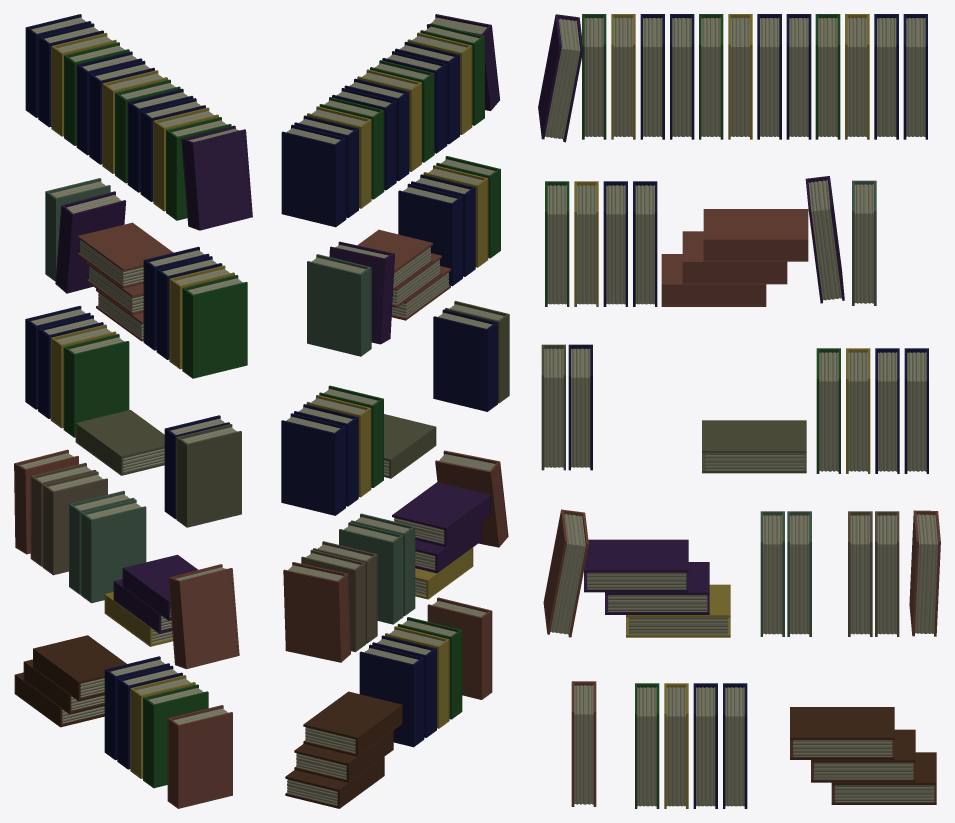
File: LibrosExtra (1).fbx
The picture shows the model from 3 angles, left to right: view 1: azimuth 30°, elevation 25°; view 2: azimuth 150°, elevation 25°; view 3: azimuth 270°, elevation 25°; orthographic projection. The views are drawn at different scales.
Parts seen in each view (by area): view 1: LibroBase.005, LibroBase.011, LibroBase.014, LibroBase.001, LibroBase.010, LibroBase.004, LibroBase.009, LibroBase.003, LibroBase.006, LibroBase, LibroBase.012, LibroBase.008 (+5 smaller); view 2: LibroBase.005, LibroBase.014, LibroBase.001, LibroBase.011, LibroBase.009, LibroBase.010, LibroBase.002, LibroBase.007, LibroBase.015, LibroBase.004, LibroBase.012, LibroBase.008 (+5 smaller); view 3: LibroBase.005, LibroBase.014, LibroBase.001, LibroBase.011, LibroBase.012, LibroBase.002, LibroBase.009, LibroBase.010, LibroBase.008, LibroBase.004, LibroBase.016, LibroBase.003 (+5 smaller).
Part boxes in pixels (x1=…): LibroBase.005: x1=25, y1=14, x2=231, y2=220; LibroBase.011: x1=143, y1=246, x2=247, y2=378; LibroBase.014: x1=25, y1=306, x2=129, y2=437; LibroBase.001: x1=104, y1=656, x2=208, y2=788; LibroBase.010: x1=164, y1=415, x2=241, y2=527; LibroBase.004: x1=69, y1=491, x2=146, y2=603; LibroBase.009: x1=14, y1=635, x2=126, y2=727; LibroBase.003: x1=168, y1=564, x2=239, y2=669; LibroBase.006: x1=181, y1=125, x2=252, y2=230; LibroBase: x1=167, y1=705, x2=232, y2=808; LibroBase.012: x1=77, y1=222, x2=173, y2=341; LibroBase.008: x1=30, y1=462, x2=107, y2=575; LibroBase.005: x1=281, y1=23, x2=484, y2=227; LibroBase.014: x1=281, y1=385, x2=383, y2=515; LibroBase.001: x1=359, y1=617, x2=462, y2=747; LibroBase.011: x1=398, y1=156, x2=500, y2=286; LibroBase.009: x1=285, y1=691, x2=402, y2=808; LibroBase.010: x1=433, y1=301, x2=509, y2=411; LibroBase.002: x1=392, y1=482, x2=491, y2=599; LibroBase.007: x1=283, y1=562, x2=350, y2=662; LibroBase.015: x1=307, y1=254, x2=371, y2=356; LibroBase.004: x1=339, y1=513, x2=415, y2=624; LibroBase.012: x1=357, y1=229, x2=450, y2=320; LibroBase.008: x1=301, y1=541, x2=377, y2=652; LibroBase.005: x1=582, y1=14, x2=927, y2=139; LibroBase.014: x1=816, y1=348, x2=928, y2=473; LibroBase.001: x1=635, y1=683, x2=747, y2=808; LibroBase.011: x1=545, y1=181, x2=657, y2=306; LibroBase.012: x1=661, y1=209, x2=808, y2=306; LibroBase.002: x1=584, y1=539, x2=730, y2=637; LibroBase.009: x1=790, y1=707, x2=936, y2=804; LibroBase.010: x1=541, y1=344, x2=592, y2=470; LibroBase.008: x1=848, y1=511, x2=899, y2=636; LibroBase.004: x1=760, y1=511, x2=811, y2=636; LibroBase.016: x1=702, y1=420, x2=806, y2=473; LibroBase.003: x1=543, y1=509, x2=588, y2=637.
Size of the model in its own units: 0.2076 by 1.97 by 0.9376.
